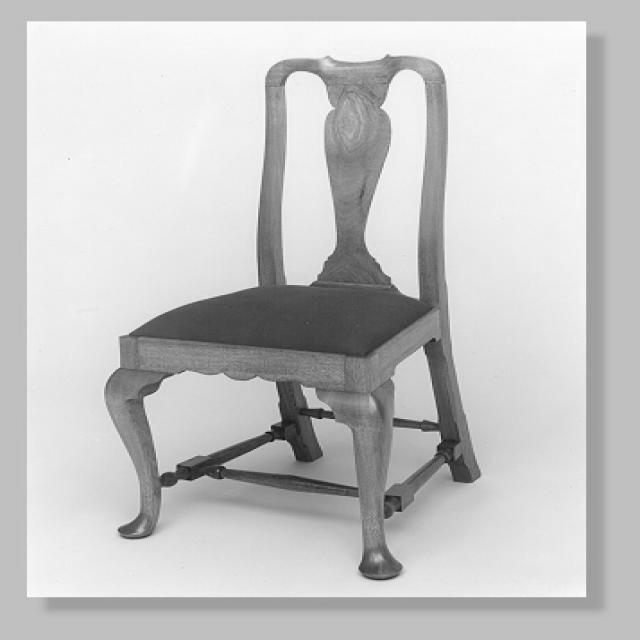chair: (102, 52, 502, 580)
